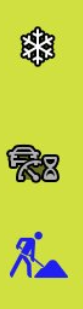ACC_WAITING: (1, 138, 73, 196)
CONSTRUCTION: (1, 227, 80, 290)
EISSTERN: (9, 18, 65, 79)
